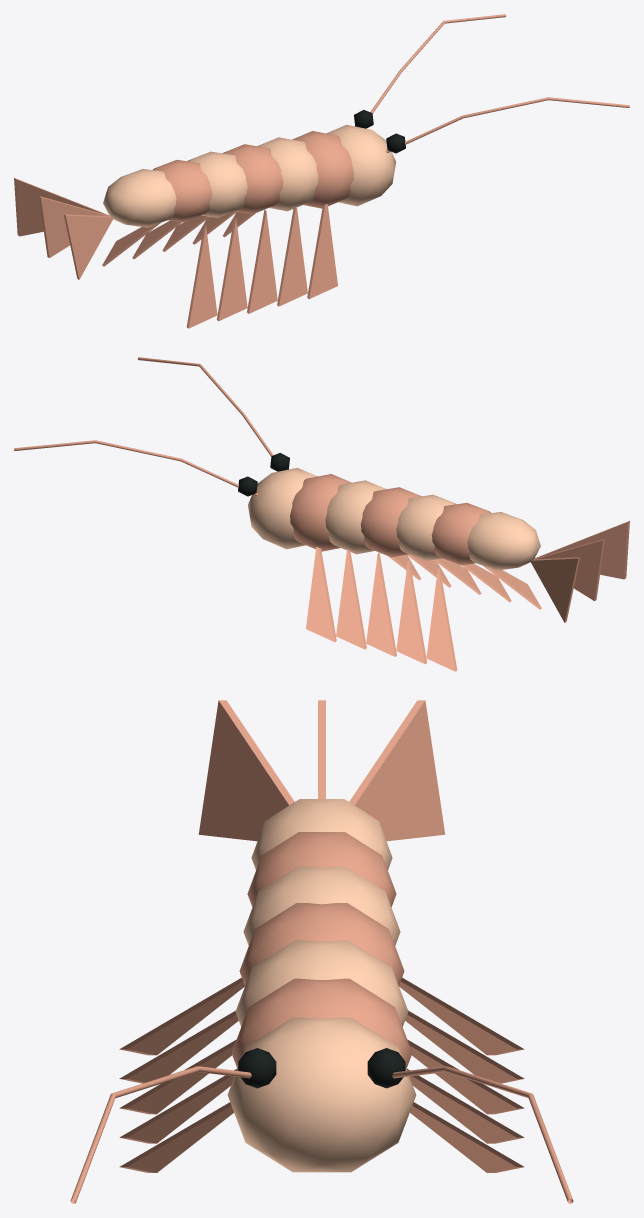
The model's file is shrimp.glb.
3 renders of one model, top to bottom at view 1: azimuth 30°, elevation 25°; view 2: azimuth 150°, elevation 25°; view 3: azimuth 270°, elevation 25°, orthographic. The views are drawn at different scales.
Visible parts, largest first — view 1: Shell_segment.006, Shell_segment, Shell_segment.001, Shell_segment.002, Shell_segment.003, Shell_segment.004, Shell_segment.005, Tail_fan, Tail_fan.002, Leg.003, Leg.004, Leg.002 (+8 smaller); view 2: Shell_segment.006, Shell_segment, Shell_segment.001, Shell_segment.002, Shell_segment.003, Shell_segment.004, Shell_segment.005, Tail_fan.002, Tail_fan, Leg.008, Leg.009, Leg.007 (+8 smaller); view 3: Shell_segment, Tail_fan, Tail_fan.002, Shell_segment.001, Shell_segment.002, Shell_segment.003, Shell_segment.004, Shell_segment.005, Shell_segment.006, Leg.004, Leg.009, Leg (+12 smaller).
Boxes of the visible parts, x1,y1,x2,y2 form: Shell_segment.006: (103, 169, 176, 227); Shell_segment: (326, 124, 395, 206); Shell_segment.001: (292, 131, 353, 208); Shell_segment.002: (257, 137, 318, 211); Shell_segment.003: (222, 144, 283, 214); Shell_segment.004: (187, 151, 247, 217); Shell_segment.005: (153, 160, 212, 222); Tail_fan: (63, 214, 113, 279); Tail_fan.002: (14, 178, 109, 236); Leg.003: (216, 217, 247, 321); Leg.004: (186, 224, 217, 328); Leg.002: (247, 209, 277, 313); Shell_segment.006: (467, 512, 540, 570); Shell_segment: (248, 467, 317, 549); Shell_segment.001: (290, 474, 351, 551); Shell_segment.002: (325, 480, 386, 554); Shell_segment.003: (360, 487, 421, 557); Shell_segment.004: (396, 494, 456, 560); Shell_segment.005: (431, 503, 490, 565); Tail_fan.002: (530, 557, 580, 622); Tail_fan: (534, 521, 629, 579); Leg.008: (396, 560, 427, 664); Leg.009: (426, 567, 457, 671); Leg.007: (366, 552, 396, 656); Shell_segment: (227, 1017, 416, 1172); Tail_fan: (198, 700, 294, 841); Tail_fan.002: (349, 700, 445, 841); Shell_segment.001: (231, 978, 412, 1068); Shell_segment.002: (235, 940, 408, 1026); Shell_segment.003: (239, 903, 404, 985); Shell_segment.004: (243, 866, 400, 945); Shell_segment.005: (247, 832, 396, 907); Shell_segment.006: (251, 799, 392, 869); Leg.004: (119, 977, 244, 1055); Leg.009: (399, 977, 524, 1055); Leg: (119, 1102, 233, 1172).
Bounding box in the file's own units: 2.45 × 0.676 × 1.01.
